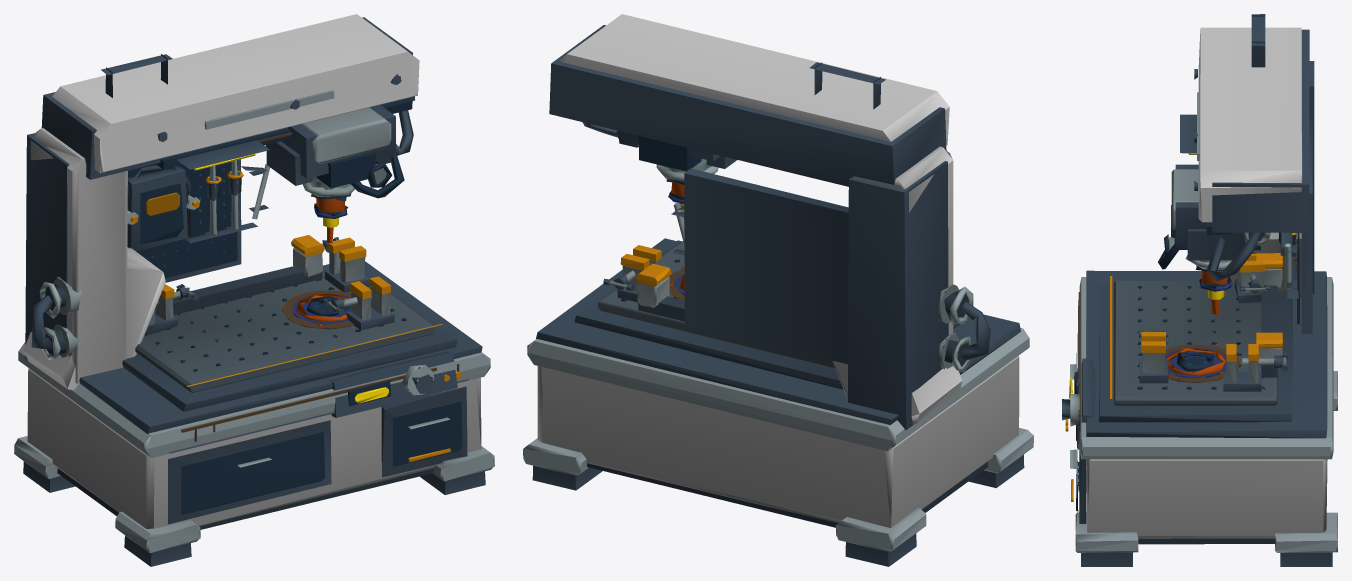
Rendered from poste-soudure.glb.
The picture shows the model from 3 angles, left to right: view 1: azimuth 30°, elevation 25°; view 2: azimuth 150°, elevation 25°; view 3: azimuth 270°, elevation 25°; orthographic projection. The views are drawn at different scales.
Parts seen in each view (by area): view 1: corps__gris_clair2, corps__bleu_nuit, corps__bleu_nuit3, corps__gris, corps__bleu_nuit2, corps__gris_clair, corps__lum_orange, corps__brun, corps__orange, corps__lum_jaune, corps__bleu_fonce; view 2: corps__bleu_nuit, corps__gris_clair2, corps__gris, corps__bleu_nuit2, corps__gris_clair, corps__bleu_nuit3, corps__lum_orange; view 3: corps__bleu_nuit, corps__gris_clair2, corps__gris, corps__bleu_nuit2, corps__bleu_nuit3, corps__lum_orange, corps__gris_clair, corps__brun, corps__orange, corps__bleu_fonce.
Part boxes in pixels (x1,y1,x2,y2): corps__gris_clair2: [23, 14, 481, 528]; corps__bleu_nuit: [23, 17, 485, 566]; corps__bleu_nuit3: [128, 99, 466, 514]; corps__gris: [14, 90, 494, 553]; corps__bleu_nuit2: [135, 273, 435, 392]; corps__gris_clair: [39, 160, 450, 467]; corps__lum_orange: [130, 170, 461, 462]; corps__brun: [181, 132, 459, 441]; corps__orange: [282, 198, 349, 326]; corps__lum_jaune: [194, 154, 388, 403]; corps__bleu_fonce: [291, 206, 350, 324]; corps__bleu_nuit: [532, 25, 1024, 566]; corps__gris_clair2: [537, 14, 1019, 527]; corps__gris: [523, 259, 1033, 552]; corps__bleu_nuit2: [598, 241, 834, 367]; corps__gris_clair: [608, 159, 973, 371]; corps__bleu_nuit3: [621, 136, 701, 301]; corps__lum_orange: [620, 245, 671, 286]; corps__bleu_nuit: [1062, 14, 1332, 566]; corps__gris_clair2: [1086, 27, 1327, 538]; corps__gris: [1075, 92, 1337, 552]; corps__bleu_nuit2: [1114, 280, 1277, 405]; corps__bleu_nuit3: [1074, 205, 1299, 511]; corps__lum_orange: [1065, 233, 1296, 501]; corps__gris_clair: [1070, 232, 1291, 468]; corps__brun: [1078, 292, 1239, 437]; corps__orange: [1166, 270, 1237, 379]; corps__bleu_fonce: [1165, 280, 1232, 377].
Bounding box in the file's own units: 1.23 × 1.28 × 0.7757.
